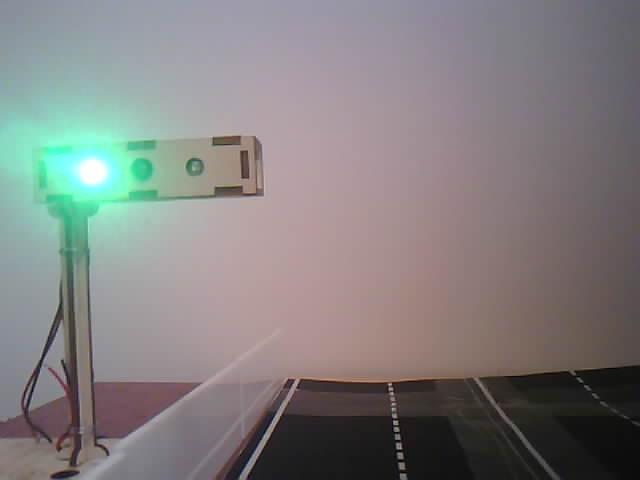green: (27, 124, 307, 471)
